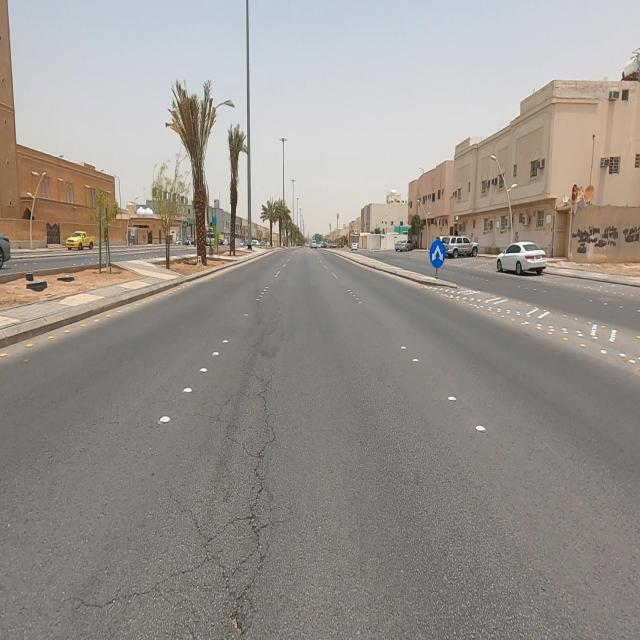Graffiti: (573, 226, 619, 255), (624, 227, 640, 250)
